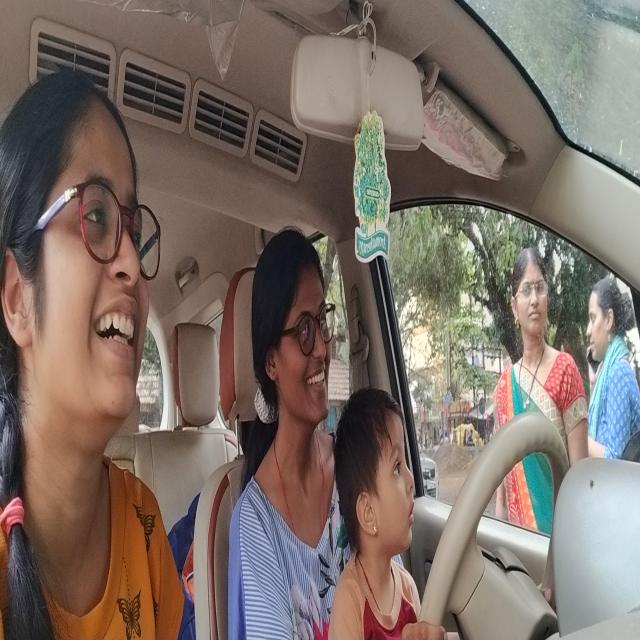child: (338, 385, 420, 570)
person: (2, 65, 166, 459), (250, 217, 337, 440)
